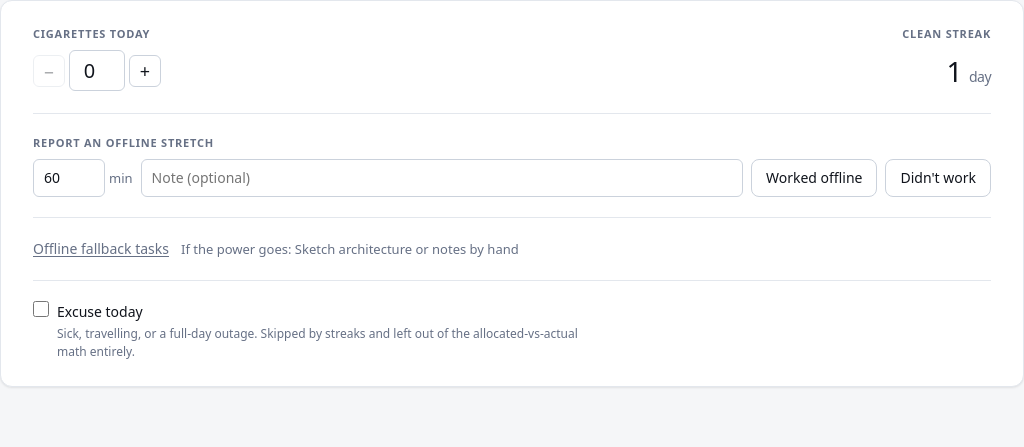
Test: outage self-report › records an optional note
Type "grid down" into the field named "outage note" at (442, 178), box [140,160,743,197]
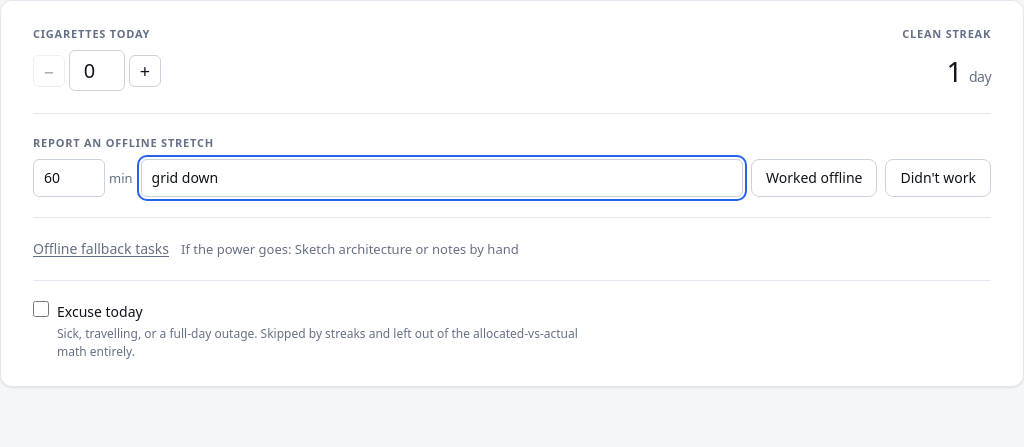
Click the button "Worked offline" at (814, 178), box [751,160,878,197]
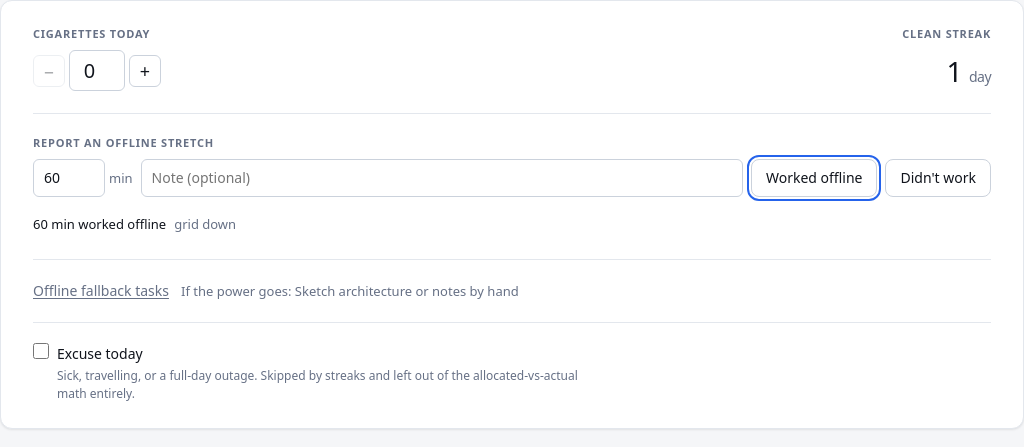
Expected: the text "grid down" is shown, [174,215,236,233]
